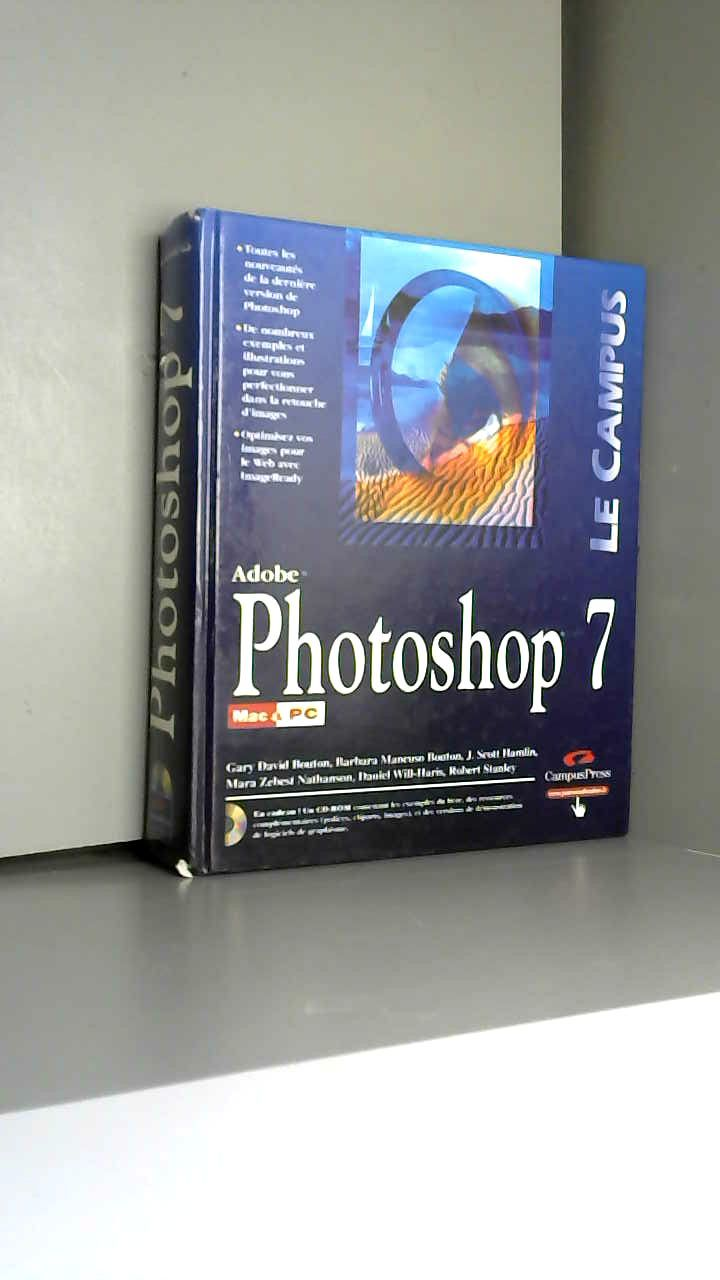book: (120, 180, 720, 912)
